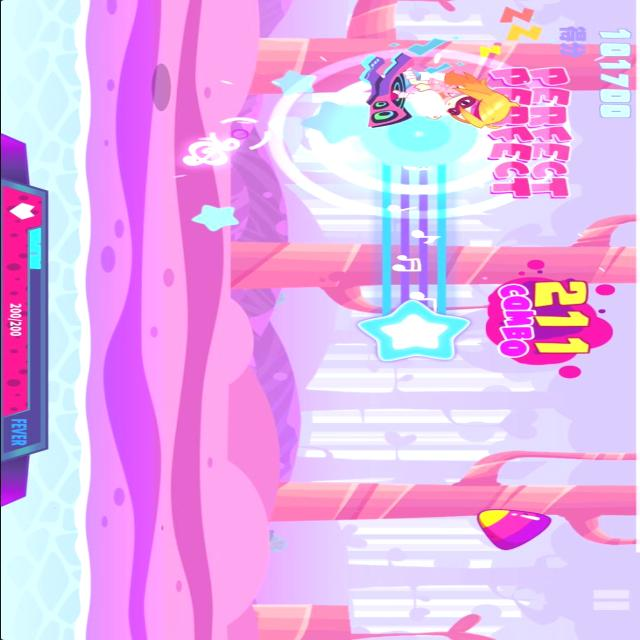hold: (351, 131, 466, 363)
